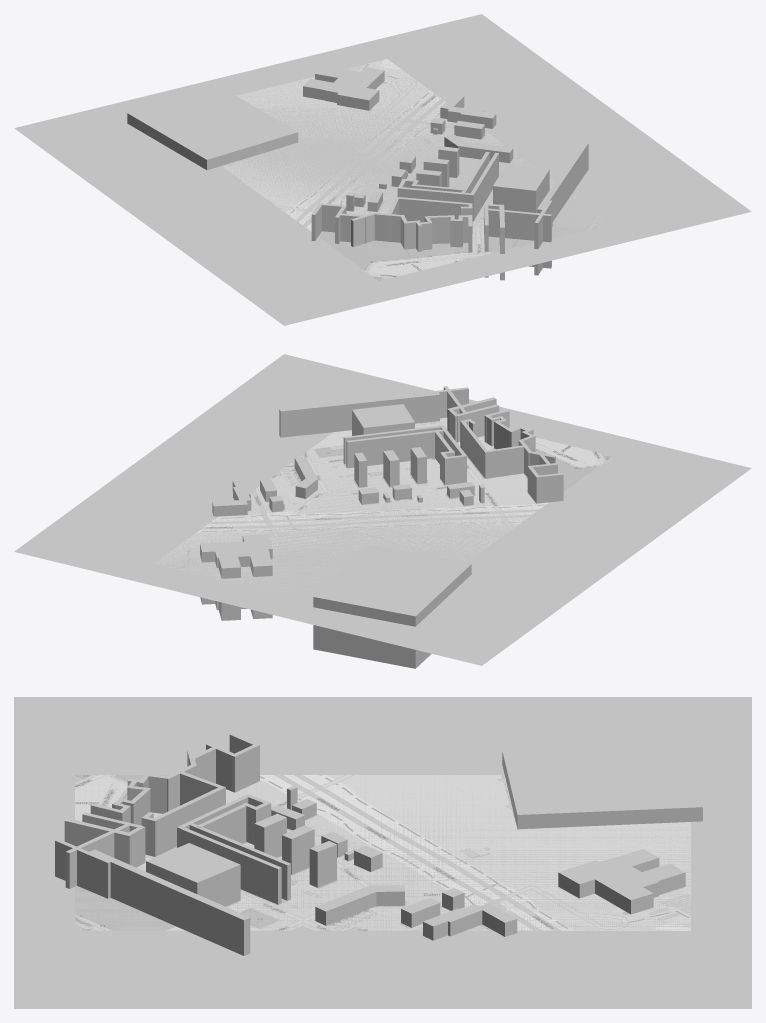
File: ntitillssab.glb
3 views of the same model, one above another, from view 1: azimuth 30°, elevation 25°; view 2: azimuth 150°, elevation 25°; view 3: azimuth 270°, elevation 25° (orthographic). The views are drawn at different scales.
Visible parts, largest first — view 1: Plane, frånntitillssab, Cube.061, Cube.007, Cube.004, Cube.006, Cube.008, Cube.009, Cube.010, Cube.058, Cube.027, Cube.032 (+3 smaller); view 2: Plane, frånntitillssab, Cube.061, Cube.006, Cube.011, Cube.007, Cube.013, Cube.058, Cube.059, Cube.008, Cube.029, Cube.057 (+6 smaller); view 3: Plane, frånntitillssab, Cube.061, Cube.006, Cube.007, Cube.010, Cube.008, Cube.005, Cube.058, Cube.003, Cube.018, Cube.056 (+24 smaller).
Part boxes in pixels (left/top/right/bottom): Plane: left=14, top=14, right=751, bottom=325; frånntitillssab: left=222, top=59, right=608, bottom=280; Cube.061: left=127, top=85, right=298, bottom=170; Cube.007: left=493, top=164, right=549, bottom=212; Cube.004: left=485, top=208, right=551, bottom=268; Cube.006: left=537, top=142, right=588, bottom=221; Cube.008: left=395, top=196, right=469, bottom=222; Cube.009: left=398, top=187, right=474, bottom=221; Cube.010: left=471, top=152, right=498, bottom=219; Cube.058: left=337, top=67, right=384, bottom=108; Cube.027: left=372, top=212, right=404, bottom=242; Cube.032: left=351, top=213, right=374, bottom=246; Plane: left=14, top=354, right=751, bottom=665; frånntitillssab: left=157, top=417, right=612, bottom=594; Cube.061: left=313, top=544, right=471, bottom=668; Cube.006: left=279, top=392, right=439, bottom=437; Cube.011: left=346, top=429, right=443, bottom=468; Cube.007: left=352, top=404, right=414, bottom=435; Cube.013: left=488, top=445, right=527, bottom=478; Cube.058: left=200, top=540, right=272, bottom=604; Cube.059: left=217, top=550, right=240, bottom=620; Cube.008: left=461, top=421, right=488, bottom=478; Cube.029: left=536, top=473, right=563, bottom=503; Cube.057: left=249, top=552, right=272, bottom=618; Plane: left=14, top=697, right=751, bottom=1008; frånntitillssab: left=75, top=775, right=690, bottom=930; Cube.061: left=502, top=742, right=702, bottom=829; Cube.006: left=89, top=849, right=250, bottom=955; Cube.007: left=146, top=843, right=240, bottom=906; Cube.010: left=180, top=827, right=281, bottom=904; Cube.008: left=153, top=786, right=225, bottom=855; Cube.005: left=55, top=839, right=110, bottom=898; Cube.058: left=576, top=860, right=653, bottom=914; Cube.003: left=64, top=818, right=132, bottom=865; Cube.018: left=282, top=825, right=314, bottom=874; Cube.056: left=558, top=861, right=613, bottom=898.
Size of the model in its own units: 2 by 0.3012 by 2.
Materials: 1 (1 with a texture image).
